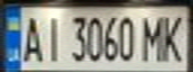0: (84, 12, 106, 63), (118, 12, 139, 63)
3: (66, 12, 87, 63)
6: (103, 12, 121, 63)
A: (18, 11, 45, 63)
I: (39, 11, 66, 63)
K: (157, 11, 190, 63)
M: (139, 11, 169, 62)
